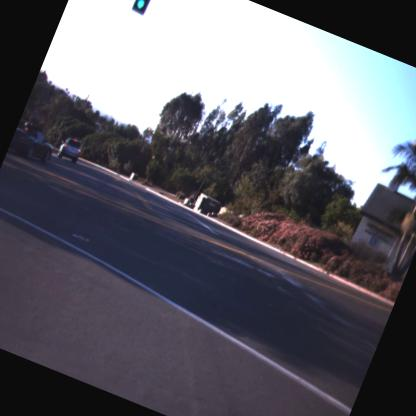trafficlight: (128, 0, 163, 21)
